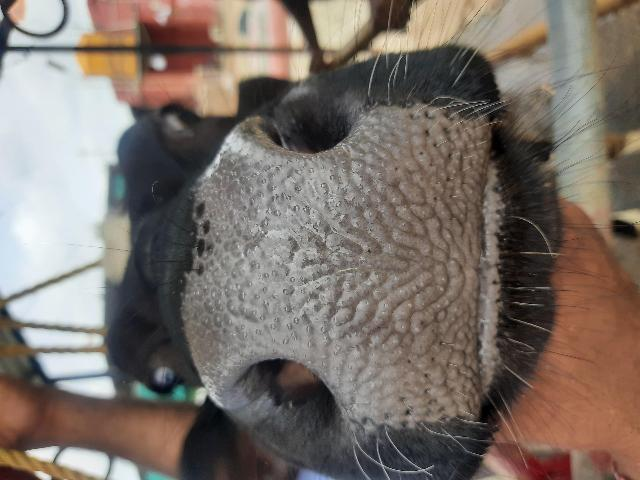Muzzle: (210, 157, 480, 367)
